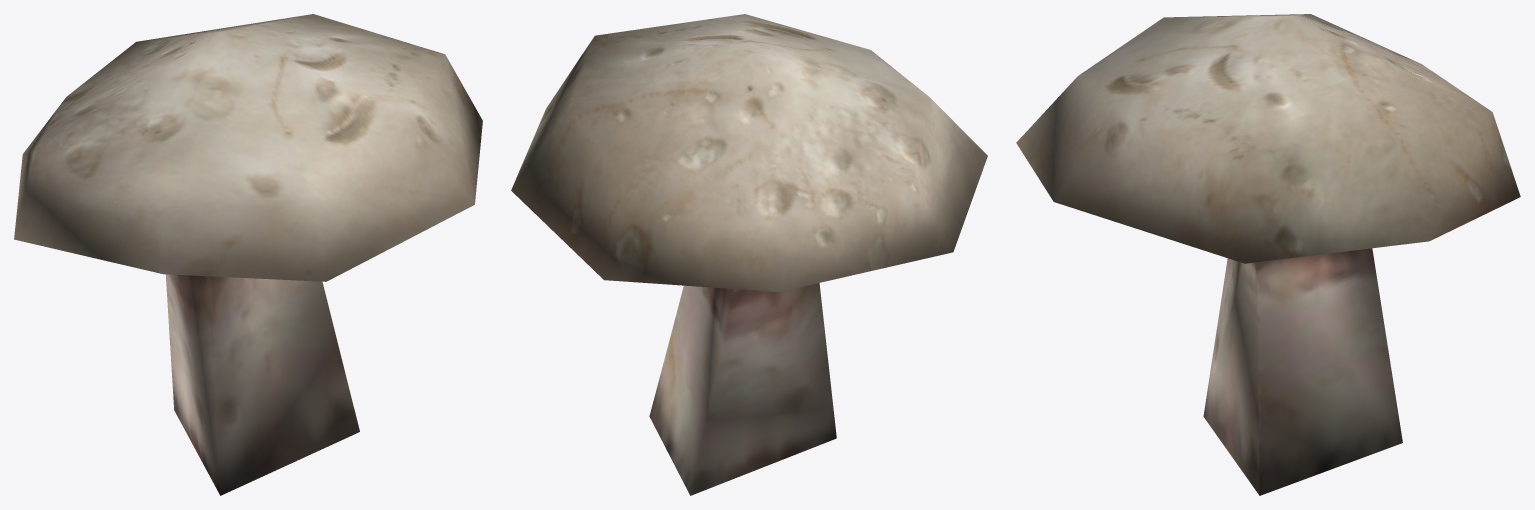
The model's file is mushroom_07_b.fbx.
3 renders of one model, left to right at view 1: azimuth 30°, elevation 25°; view 2: azimuth 150°, elevation 25°; view 3: azimuth 270°, elevation 25°, orthographic. The views are drawn at different scales.
Parts seen in each view (by area): view 1: mushroom_07_b; view 2: mushroom_07_b; view 3: mushroom_07_b.
Part boxes in pixels (x1,y1,x2,y2): mushroom_07_b: (14, 14, 482, 495); mushroom_07_b: (511, 14, 987, 495); mushroom_07_b: (1016, 14, 1520, 495).
Size of the model in its own units: 0.2089 by 0.1884 by 0.2039.
